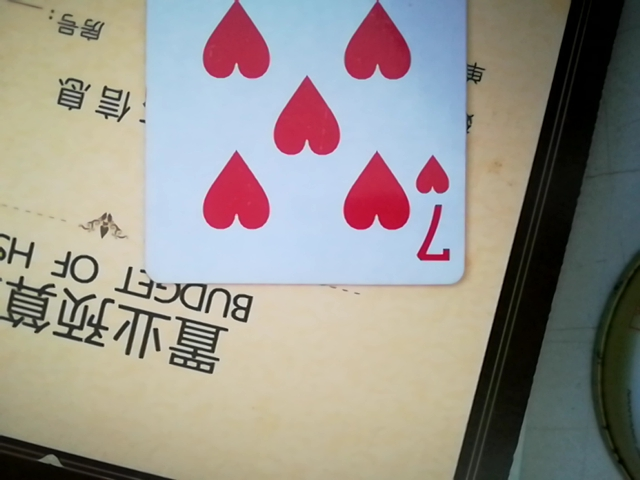hx 7: (136, 0, 469, 290)
